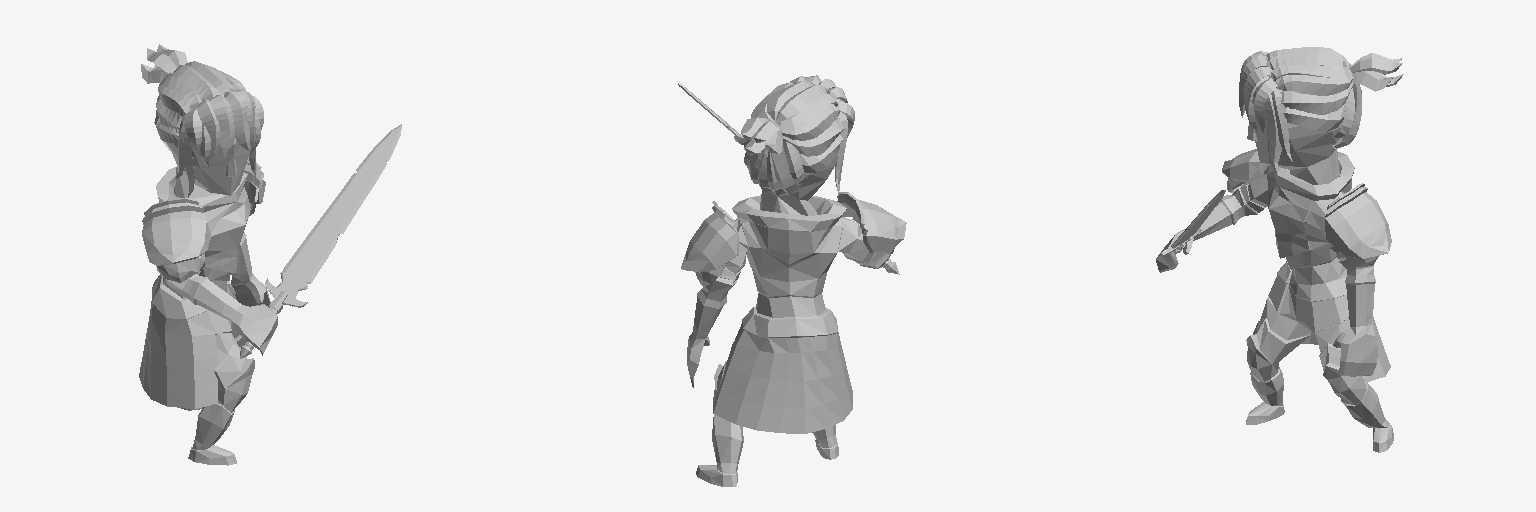
3 views of the same model, side by side, from view 1: azimuth 30°, elevation 25°; view 2: azimuth 150°, elevation 25°; view 3: azimuth 270°, elevation 25° (orthographic).
Parts seen in each view (by area): view 1: Warrior.002__ncl1_29.005, Face__ncl1_29.002, Warrior_Sword_Cylinder.001, Shoulder.R__ncl1_29.001, Shoulder.L__ncl1_29.000; view 2: Warrior.002__ncl1_29.005, Face__ncl1_29.002, Shoulder.L__ncl1_29.000, Shoulder.R__ncl1_29.001; view 3: Warrior.002__ncl1_29.005, Face__ncl1_29.002, Shoulder.L__ncl1_29.000, Shoulder.R__ncl1_29.001, Warrior_Sword_Cylinder.001.
Boxes of the visible parts, <box> form: Warrior.002__ncl1_29.005: <box>139,116,277,465</box>; Face__ncl1_29.002: <box>141,44,263,197</box>; Warrior_Sword_Cylinder.001: <box>240,124,401,358</box>; Shoulder.R__ncl1_29.001: <box>142,198,210,282</box>; Shoulder.L__ncl1_29.000: <box>244,157,265,215</box>; Warrior.002__ncl1_29.005: <box>687,151,890,486</box>; Face__ncl1_29.002: <box>734,75,854,195</box>; Shoulder.L__ncl1_29.000: <box>681,201,739,286</box>; Shoulder.R__ncl1_29.001: <box>837,192,906,254</box>; Warrior.002__ncl1_29.005: <box>1156,112,1393,452</box>; Face__ncl1_29.002: <box>1239,47,1403,175</box>; Shoulder.L__ncl1_29.000: <box>1324,183,1391,266</box>; Shoulder.R__ncl1_29.001: <box>1222,149,1268,192</box>; Warrior_Sword_Cylinder.001: <box>1161,190,1225,255</box>.
Size of the model in its own units: 1.87 by 2.81 by 1.7.